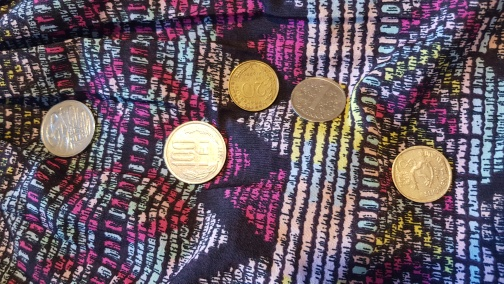coin: (163, 121, 228, 184), (391, 145, 452, 204), (40, 100, 97, 157), (228, 60, 280, 112), (290, 76, 347, 122)
